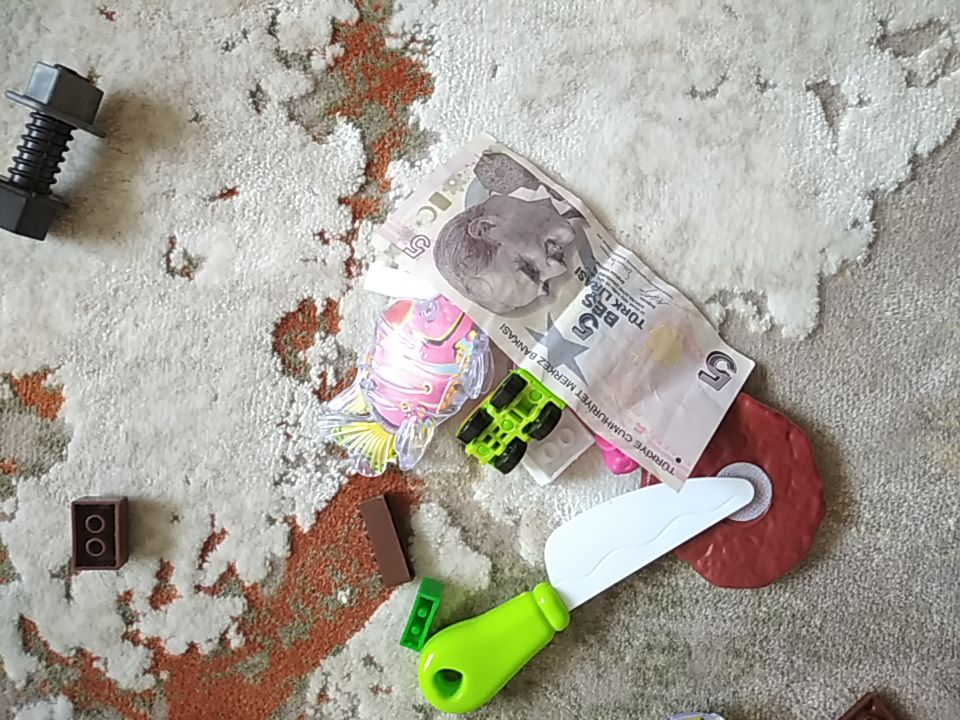5TL: (371, 130, 755, 492)
